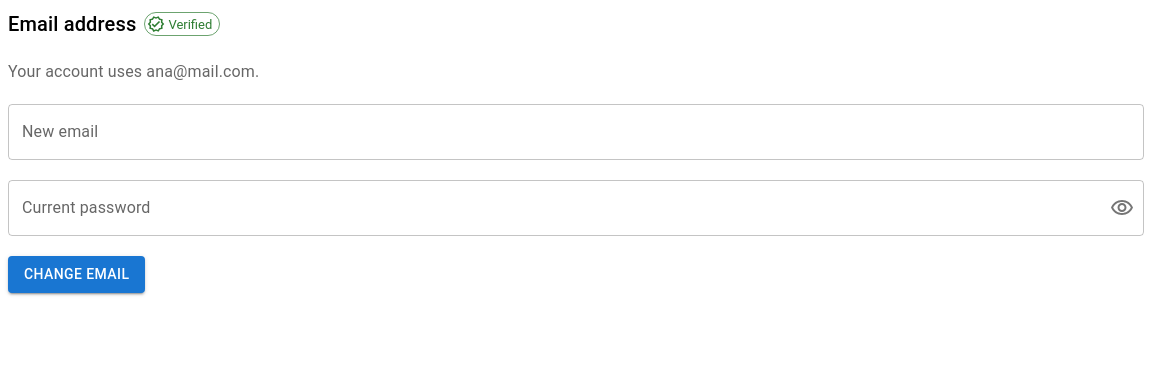
Scenario: EmailSection › asks for the change with the password and says where the link went
expect the text "Your account uses ana@mail.com." is shown: met, box 8,62 -> 259,81
In the field labelled "New email": (576, 132) 8,104 -> 1144,160, type "  new@mail.com "
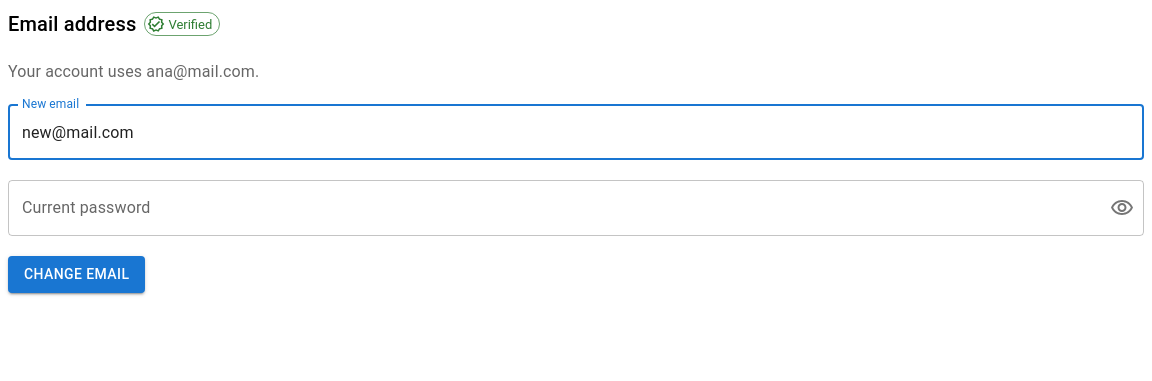
In the password field labelled "Current password": (551, 208) 8,180 -> 1094,236, type "Password1"
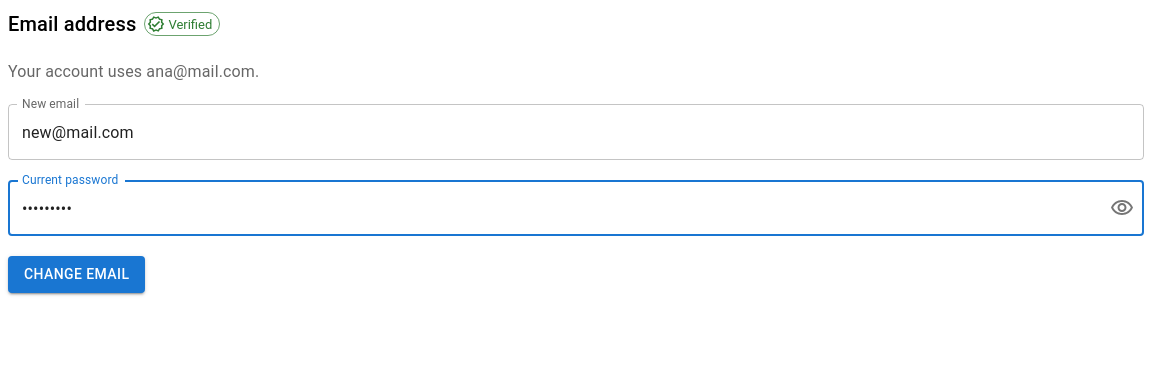
Click the button "Change email": (77, 274) 8,256 -> 145,292
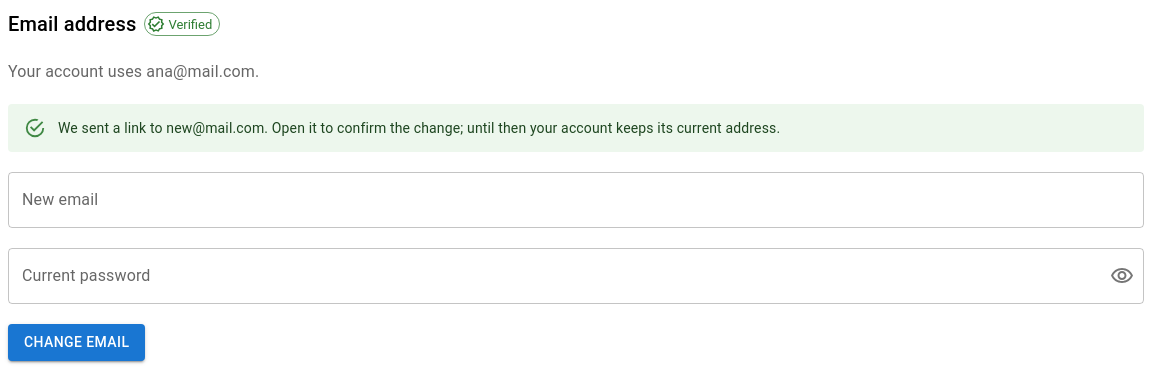
expect the text "We sent a link to new@mail.com" is shown: met, box 58,120 -> 780,136
expect the field labelled "New email" is empty: met, box 8,172 -> 1144,228
